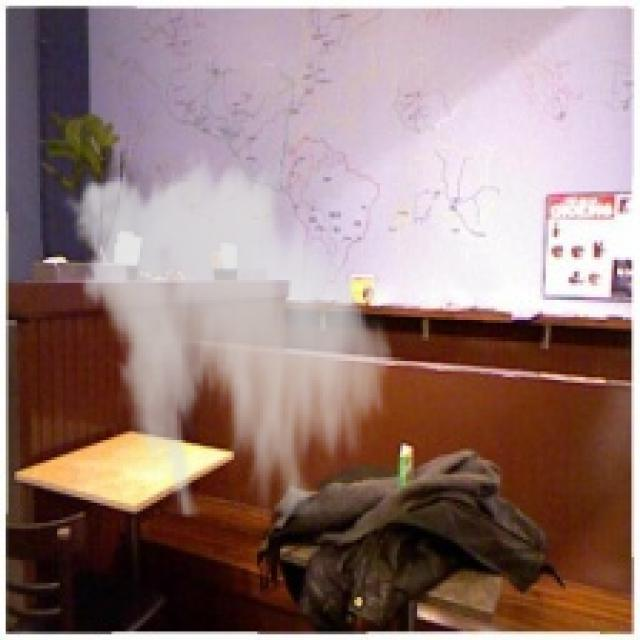Smoke: (57, 145, 403, 518)
